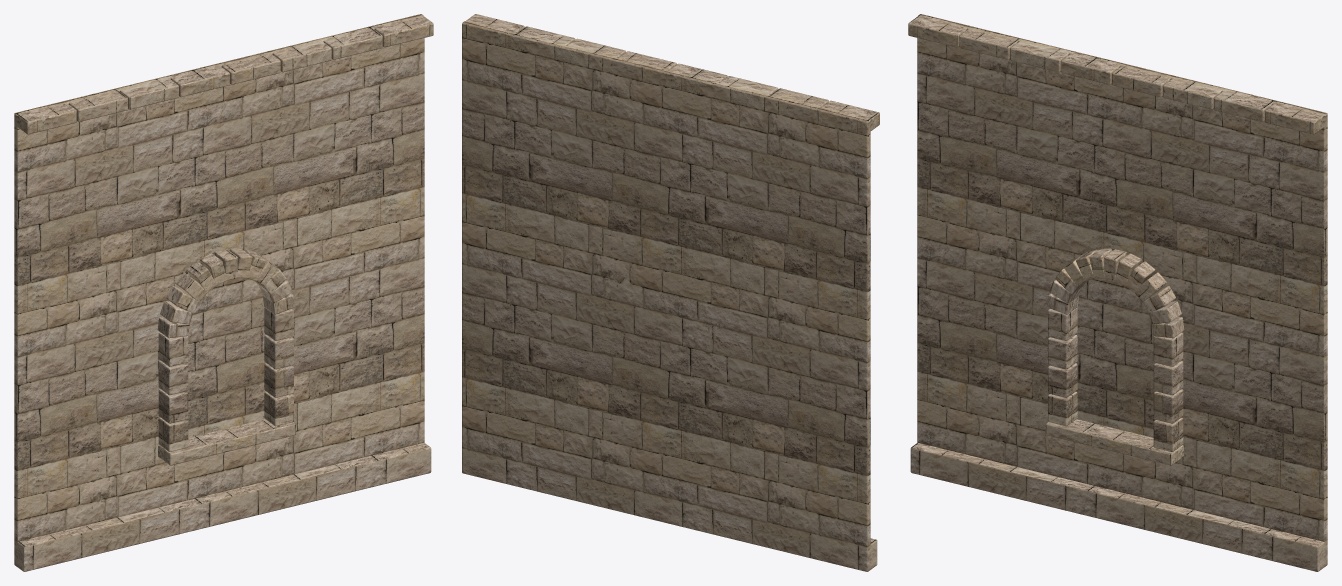
The model's file is spawn-a-east.glb.
3 renders of one model, left to right at view 1: azimuth 30°, elevation 25°; view 2: azimuth 150°, elevation 25°; view 3: azimuth 330°, elevation 25°, orthographic.
Visible parts, largest first — view 1: Continuous stone face; view 2: Continuous stone face; view 3: Continuous stone face.
Boxes of the visible parts, x1,y1,x2,y2 form: Continuous stone face: [14, 14, 433, 571]; Continuous stone face: [462, 14, 879, 571]; Continuous stone face: [908, 14, 1327, 571].
Bounding box in the file's own units: 4.62 × 4.9 × 0.31.
1 material, 1 textured.
